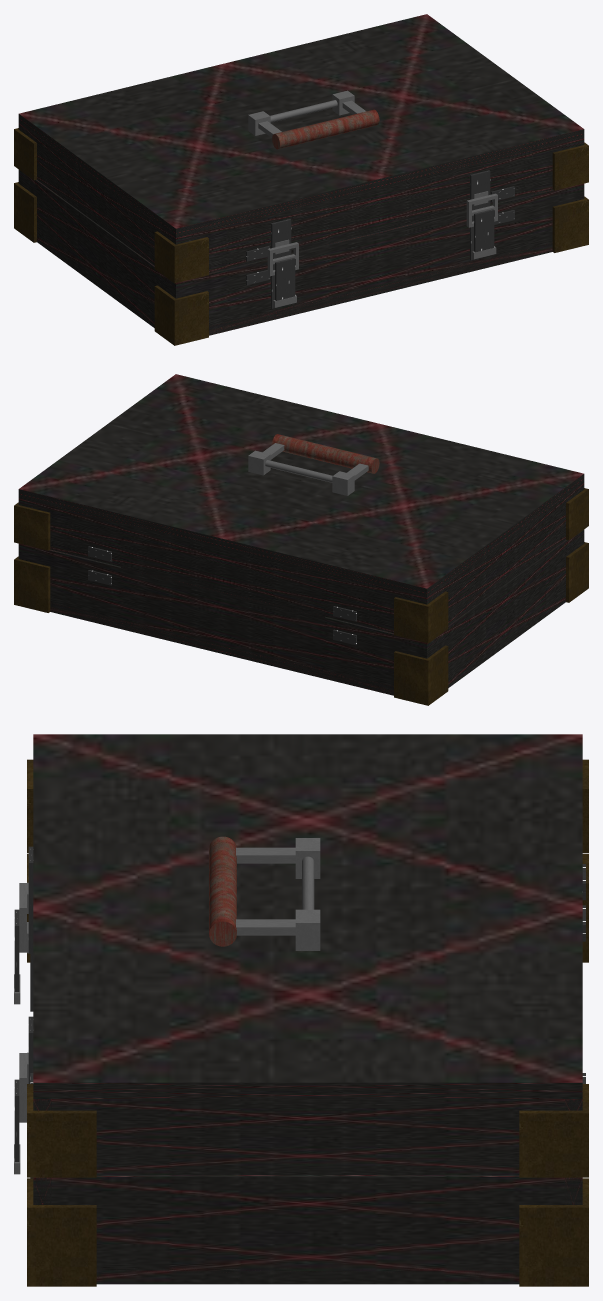
Rendered from Bag_Suitcase_Suitcase__0018.glb.
The picture shows the model from 3 angles, top to bottom: view 1: azimuth 30°, elevation 25°; view 2: azimuth 150°, elevation 25°; view 3: azimuth 270°, elevation 25°; orthographic projection. The views are drawn at different scales.
Parts seen in each view (by area): view 1: suitcase_lid::shell_panel, suitcase_body::wall_front, suitcase_lid::wall_front, suitcase_body::wall_left, suitcase_lid::wall_left, suitcase_body::shell_panel, suitcase_body::body_corner_0, suitcase_lid::lid_corner_0, folding_handle::handle_grip, suitcase_body::body_corner_2, suitcase_lid::lid_corner_2, suitcase_body::body_corner_1 (+6 smaller); view 2: suitcase_lid::shell_panel, suitcase_body::wall_back, suitcase_lid::wall_back, suitcase_body::wall_left, suitcase_lid::wall_left, suitcase_body::shell_panel, suitcase_body::body_corner_1, suitcase_lid::lid_corner_1, suitcase_body::body_corner_3, folding_handle::handle_grip, suitcase_lid::lid_corner_3, suitcase_body::body_corner_0 (+5 smaller); view 3: suitcase_lid::shell_panel, suitcase_body::wall_right, suitcase_lid::wall_right, suitcase_body::body_corner_2, suitcase_body::body_corner_3, suitcase_lid::lid_corner_2, suitcase_lid::lid_corner_3, folding_handle::handle_grip, suitcase_lid::handle_pivot_mount_1, folding_handle::handle_arm_0, folding_handle::handle_arm_1, suitcase_lid::handle_pivot_mount_0.
Boxes of the visible parts, x1,y1,x2,y2 form: suitcase_lid::shell_panel: (18, 14, 584, 237); suitcase_body::wall_front: (171, 183, 584, 334); suitcase_lid::wall_front: (174, 138, 584, 273); suitcase_body::wall_left: (18, 169, 184, 327); suitcase_lid::wall_left: (18, 123, 175, 265); suitcase_body::shell_panel: (209, 242, 552, 335); suitcase_body::body_corner_0: (154, 285, 208, 345); suitcase_lid::lid_corner_0: (154, 231, 208, 283); folding_handle::handle_grip: (272, 109, 379, 149); suitcase_body::body_corner_2: (552, 196, 588, 252); suitcase_lid::lid_corner_2: (552, 142, 588, 190); suitcase_body::body_corner_1: (14, 182, 36, 242); suitcase_lid::shell_panel: (18, 374, 584, 597); suitcase_body::wall_back: (18, 543, 426, 694); suitcase_lid::wall_back: (18, 498, 426, 633); suitcase_body::wall_left: (424, 529, 584, 687); suitcase_lid::wall_left: (419, 483, 584, 625); suitcase_body::shell_panel: (50, 602, 393, 695); suitcase_body::body_corner_1: (394, 645, 448, 705); suitcase_lid::lid_corner_1: (394, 591, 448, 643); suitcase_body::body_corner_3: (14, 556, 50, 612); folding_handle::handle_grip: (272, 434, 379, 473); suitcase_lid::lid_corner_3: (14, 502, 50, 550); suitcase_body::body_corner_0: (566, 542, 588, 602); suitcase_lid::shell_panel: (33, 734, 582, 1099); suitcase_body::wall_right: (33, 1175, 582, 1284); suitcase_lid::wall_right: (33, 1099, 582, 1174); suitcase_body::body_corner_2: (27, 1178, 96, 1286); suitcase_body::body_corner_3: (519, 1178, 588, 1286); suitcase_lid::lid_corner_2: (27, 1084, 96, 1177); suitcase_lid::lid_corner_3: (519, 1084, 588, 1177); folding_handle::handle_grip: (209, 836, 236, 946); suitcase_lid::handle_pivot_mount_1: (295, 909, 320, 950); folding_handle::handle_arm_0: (236, 847, 295, 863); folding_handle::handle_arm_1: (236, 919, 295, 935); suitcase_lid::handle_pivot_mount_0: (295, 838, 320, 878).
Size of the model in its own units: 0.5413 by 0.1648 by 0.3719.
5 materials, 5 textured.
